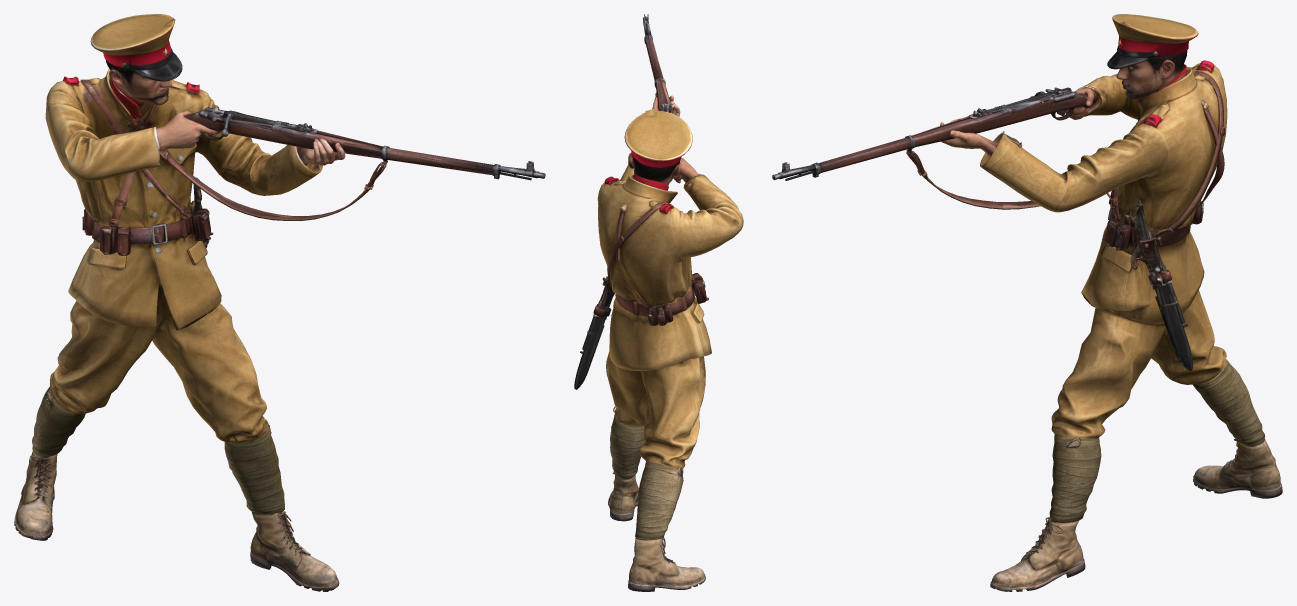
File: soldier_1-0b85d17461.glb
The picture shows the model from 3 angles, left to right: view 1: azimuth 30°, elevation 25°; view 2: azimuth 150°, elevation 25°; view 3: azimuth 270°, elevation 25°; orthographic projection. The views are drawn at different scales.
Parts seen in each view (by area): view 1: tripo_node_e004c10f-4c2b-43bd-a15f-ee2bdf15d2e7; view 2: tripo_node_e004c10f-4c2b-43bd-a15f-ee2bdf15d2e7; view 3: tripo_node_e004c10f-4c2b-43bd-a15f-ee2bdf15d2e7.
Boxes of the visible parts, <box> form: tripo_node_e004c10f-4c2b-43bd-a15f-ee2bdf15d2e7: <box>14,14,545,591</box>; tripo_node_e004c10f-4c2b-43bd-a15f-ee2bdf15d2e7: <box>574,14,743,591</box>; tripo_node_e004c10f-4c2b-43bd-a15f-ee2bdf15d2e7: <box>772,14,1282,591</box>.
Size of the model in its own units: 0.5777 by 0.9995 by 0.8834.
Materials: 1 (1 with a texture image).
